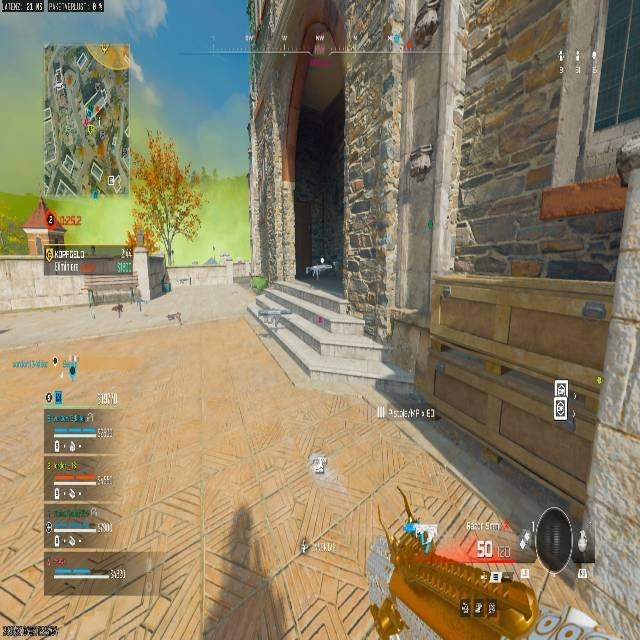head: (518, 506, 587, 571)
